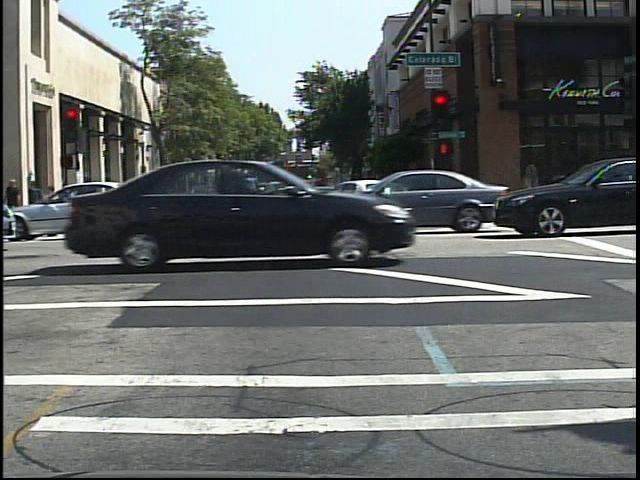person: (138, 181, 155, 216), (134, 181, 150, 214)
